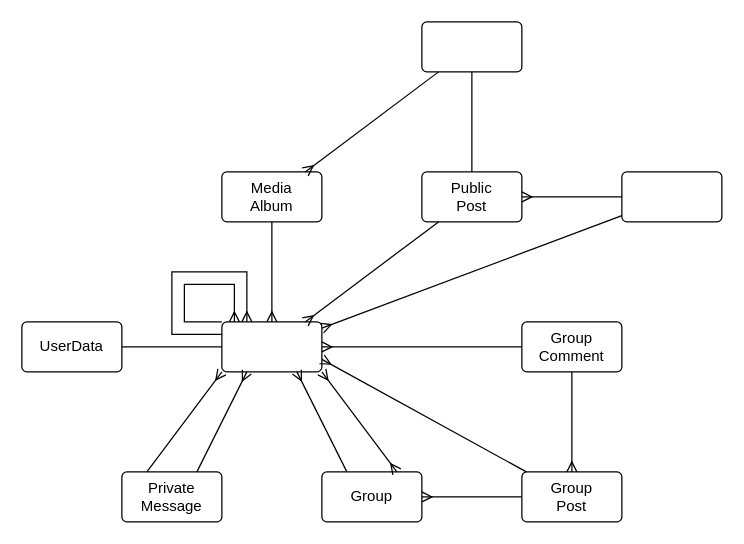
This 744x544 diagram has some shape labels left out. Each missing label, with the centre of its shape:
Public Comment: the point at 671,196
Public Picture: the point at 471,46
User: the point at 271,346
